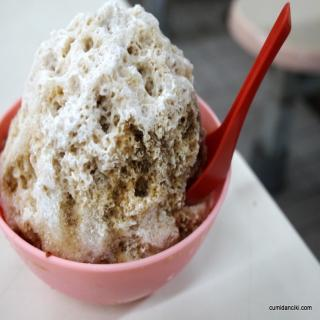Ice cream: (0, 0, 219, 267)
